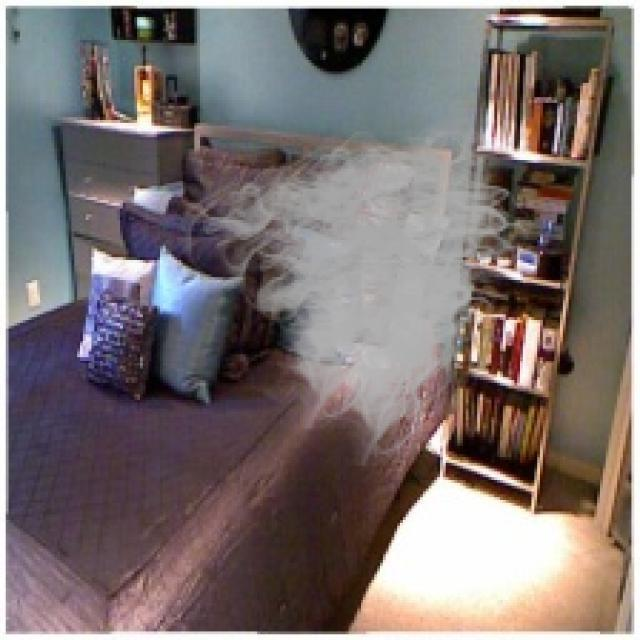Smoke: (171, 106, 543, 466)
